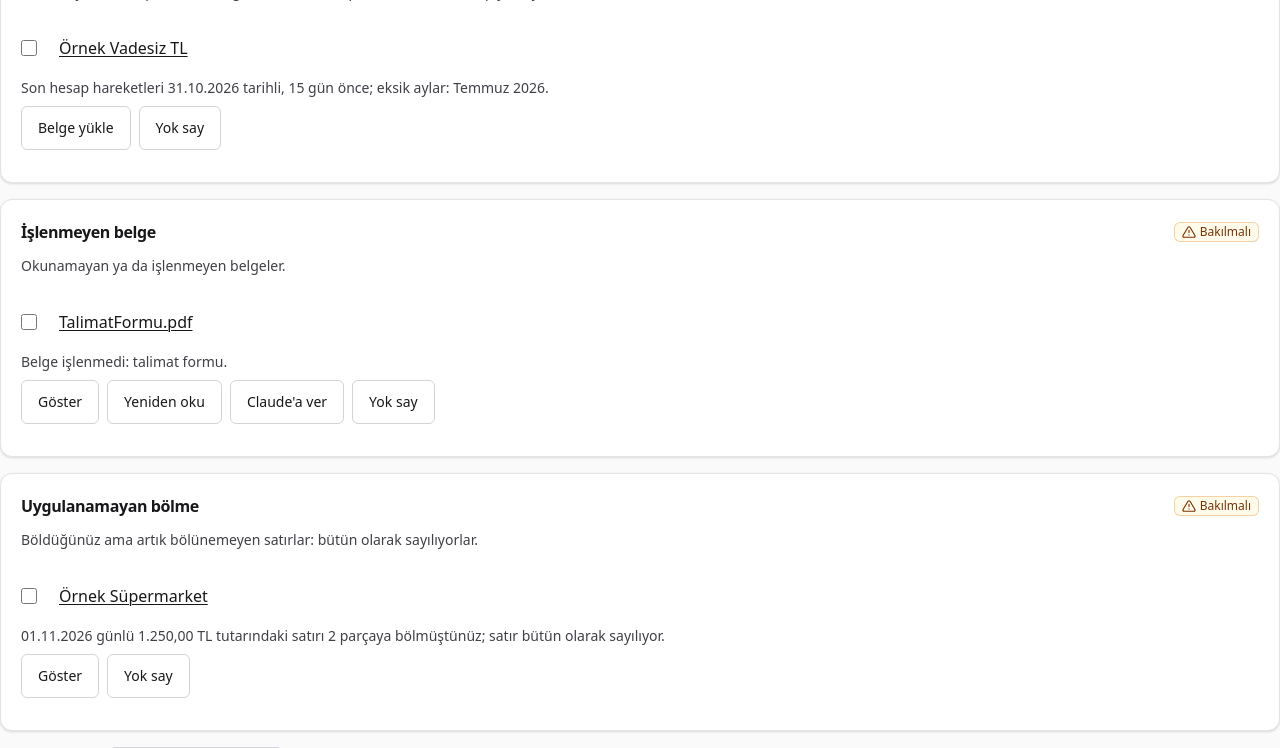
TodoPage: the steps › reads a document again and says what it is now
The width and height of the screenshot is (1280, 748).
(page scrolled)
Click the button with aria-label "Yeniden oku: TalimatFormu.pdf". click: [164, 402]
box: [107,380,222,424]
(page scrolled)
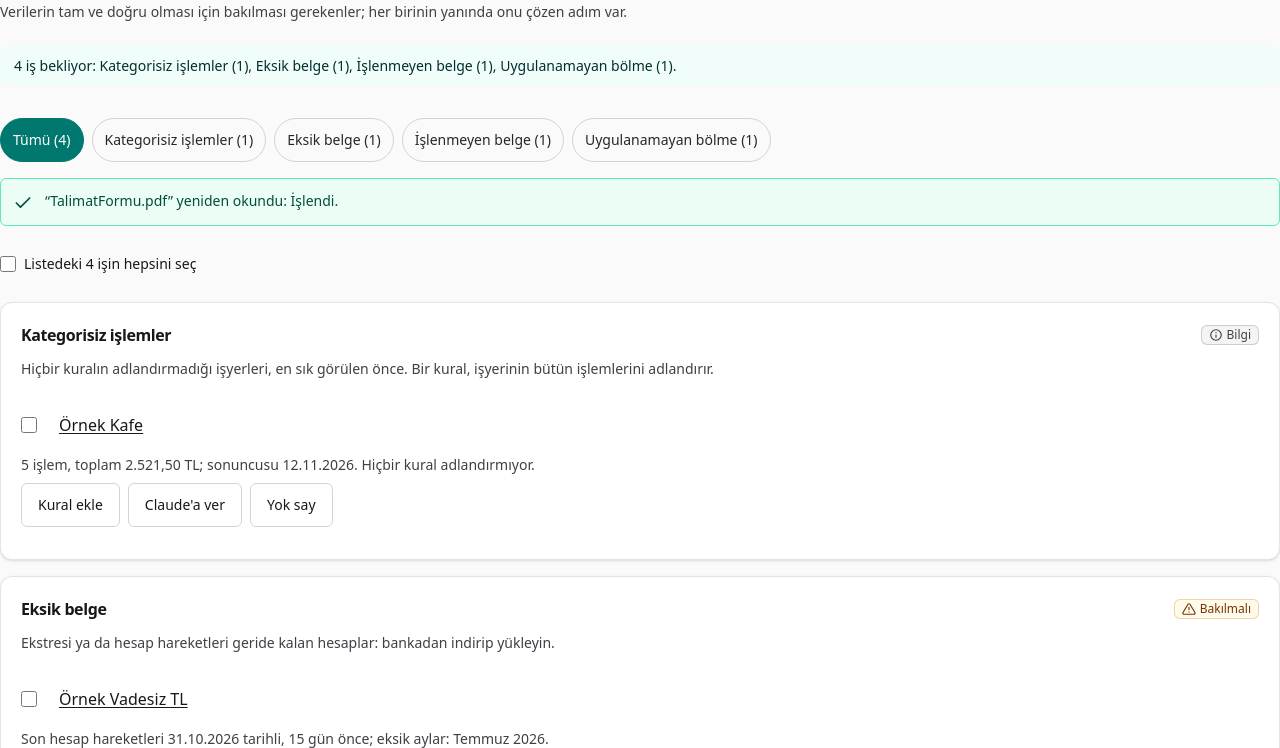
Check: the text "“TalimatFormu.pdf” yeniden okundu: İşlendi." is shown, box [45,191,338,211]
